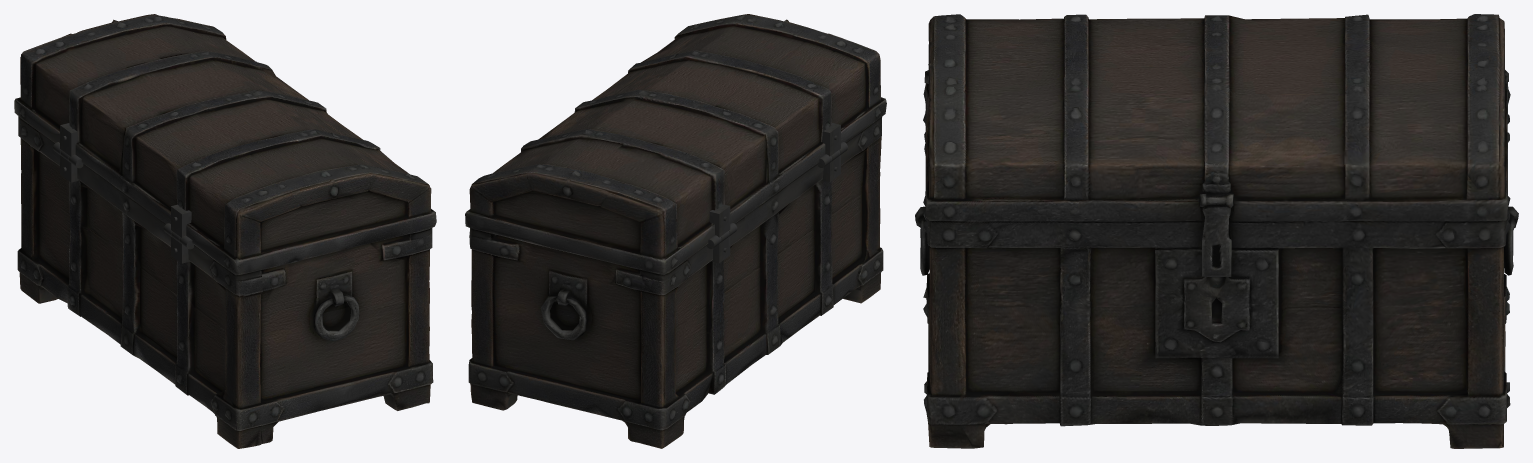
The model's file is storage-chest-review-draft-v1.glb.
3 renders of one model, left to right at view 1: azimuth 30°, elevation 25°; view 2: azimuth 150°, elevation 25°; view 3: azimuth 270°, elevation 25°, orthographic. The views are drawn at different scales.
Visible parts, largest first — view 1: chest-body, chest-lid; view 2: chest-body, chest-lid; view 3: chest-body, chest-lid, chest-hasp.
Part boxes in pixels (x1,y1,x2,y2): chest-body: (17,116,433,448); chest-lid: (14,14,436,275); chest-body: (468,117,883,448); chest-lid: (465,14,886,274); chest-body: (915,109,1518,448); chest-lid: (923,14,1510,221); chest-hasp: (1200,194,1233,276).
Size of the model in its own units: 0.5363 by 0.5968 by 1.
Materials: 1 (1 with a texture image).
